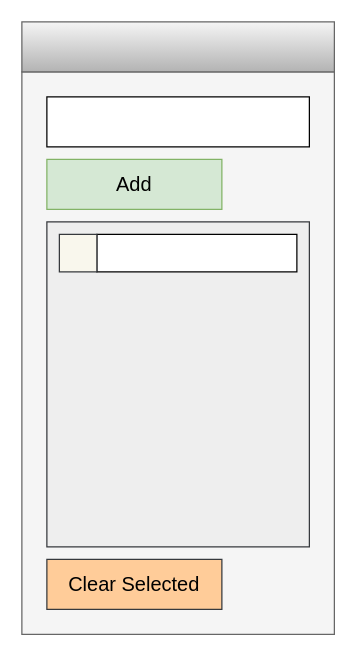
The diagram is 356 pixels wide and 656 high, and some of its shapes have lost their labels. Here are the shapes that lost their labels. From the top down, the centre of each, then its label:
the point at 177,46: Simple - Todo App
the point at 196,252: Todo#1
